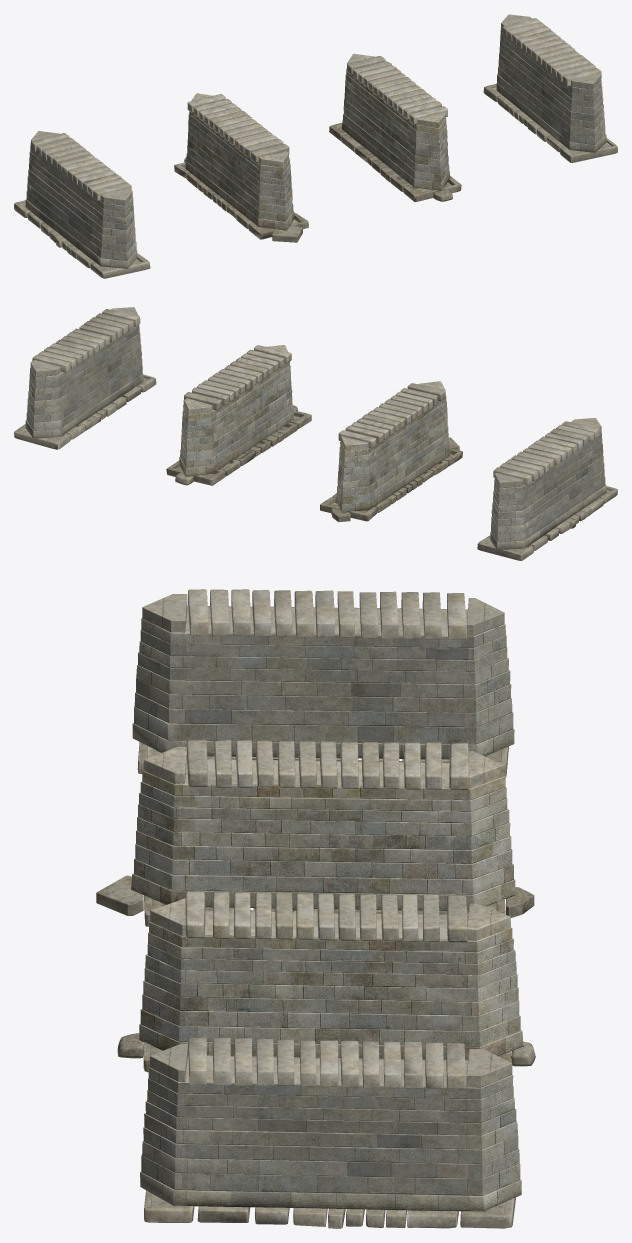
File: woljeonggyo-pier.glb
3 views of the same model, one above another, from view 1: azimuth 30°, elevation 25°; view 2: azimuth 150°, elevation 25°; view 3: azimuth 270°, elevation 25° (orthographic). The views are drawn at different scales.
Visible parts, largest first — view 1: SM_CWEA_004_04_Material #76_0, SM_CWEA_004_03_Material #78_0; view 2: SM_CWEA_004_04_Material #76_0, SM_CWEA_004_03_Material #78_0; view 3: SM_CWEA_004_04_Material #76_0, SM_CWEA_004_03_Material #78_0.
Part boxes in pixels (<box>): SM_CWEA_004_04_Material #76_0: <box>14,14,617,278</box>; SM_CWEA_004_03_Material #78_0: <box>174,53,461,242</box>; SM_CWEA_004_04_Material #76_0: <box>14,307,617,560</box>; SM_CWEA_004_03_Material #78_0: <box>166,345,462,521</box>; SM_CWEA_004_04_Material #76_0: <box>132,589,521,1228</box>; SM_CWEA_004_03_Material #78_0: <box>96,739,535,1072</box>.
Size of the model in its own units: 42.22 by 5.81 by 15.68.
2 materials, 2 textured.
